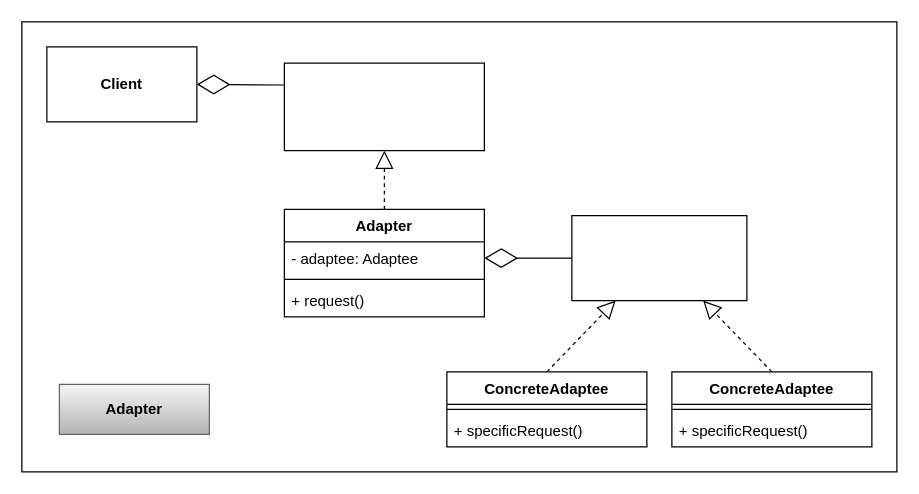
This 919x494 diagram has some shape labels left out. Each missing label, with the box of its shape:
<<Interface>> Adaptee + specificRequest(): (571, 214, 747, 301)
<<Interface>> Target + request(): (283, 62, 484, 151)
